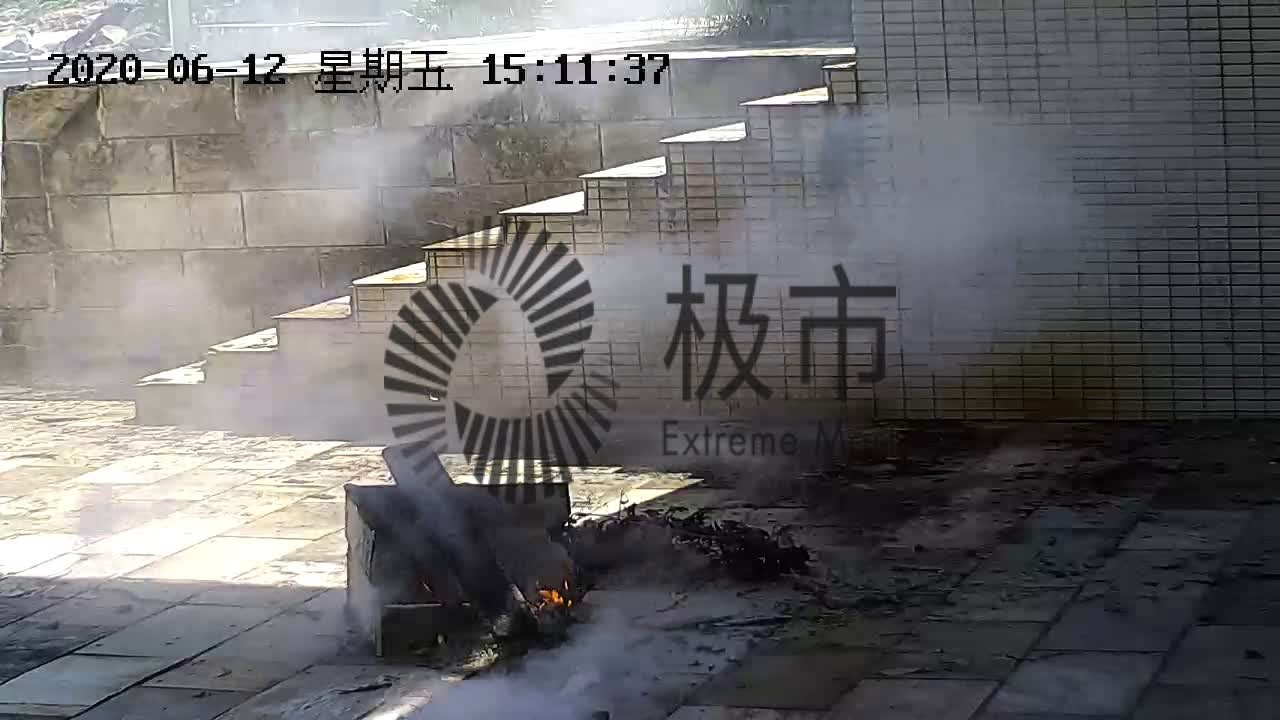fire: (523, 569, 585, 625)
